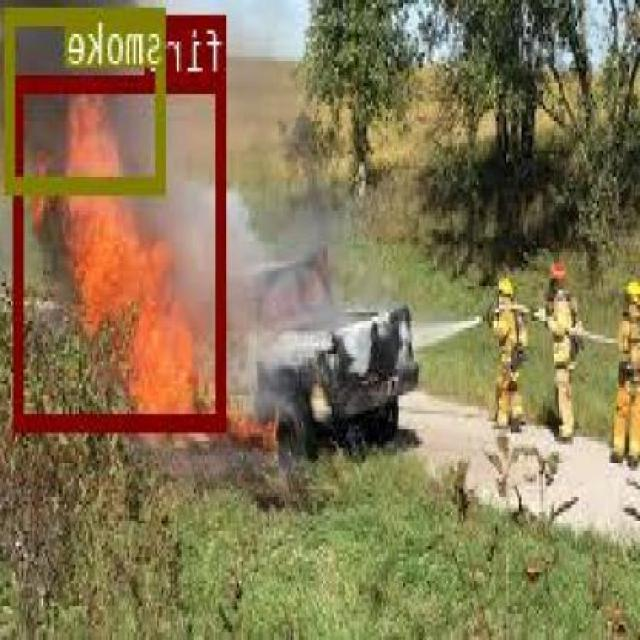Fire: (15, 71, 228, 427)
Smoke: (7, 6, 167, 191)
